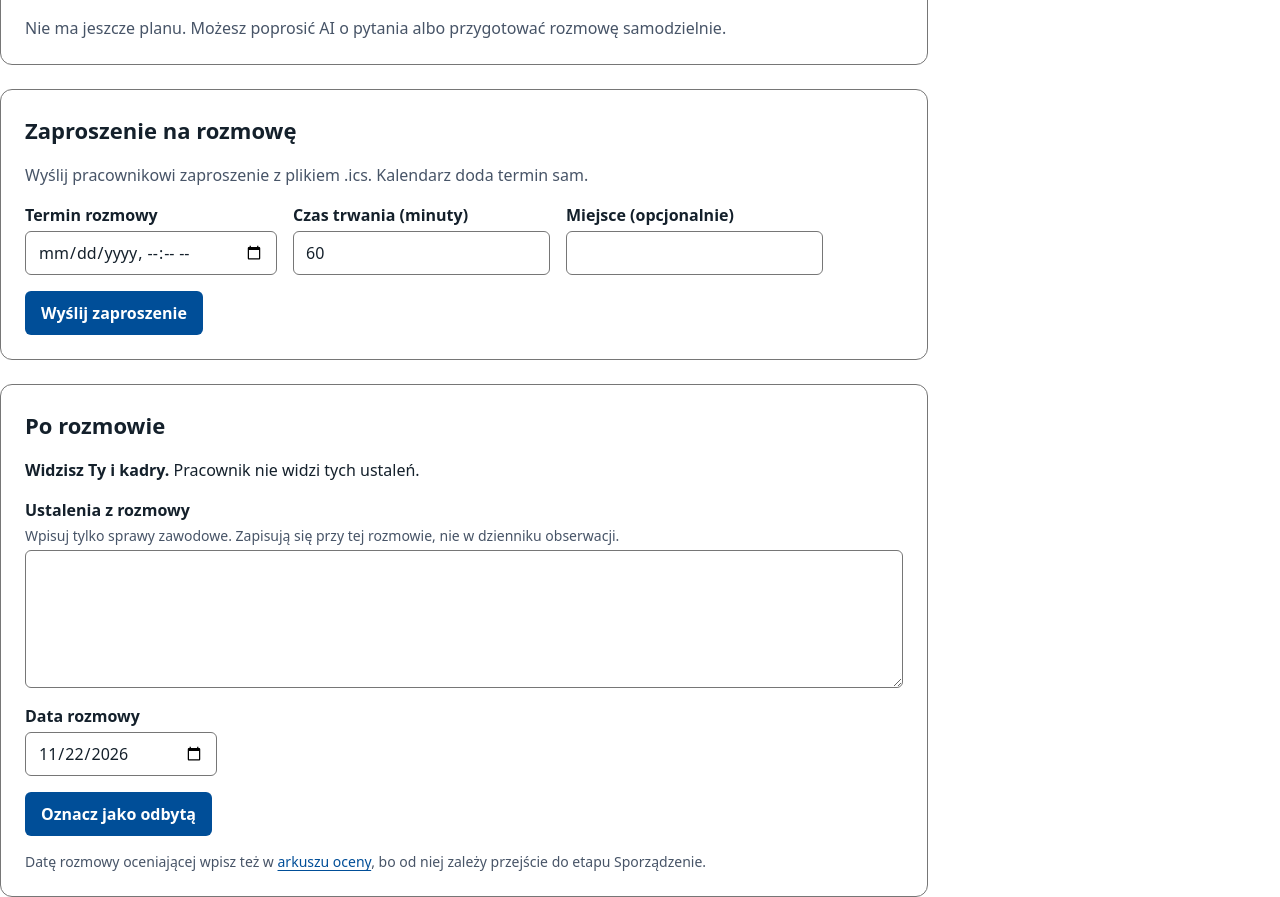
Test: ConversationPage › does not save a conversation dated in the future
(page scrolled)
Type "2099-01-01" into the date field labelled "Data rozmowy" at (121, 754), box [25, 732, 217, 776]
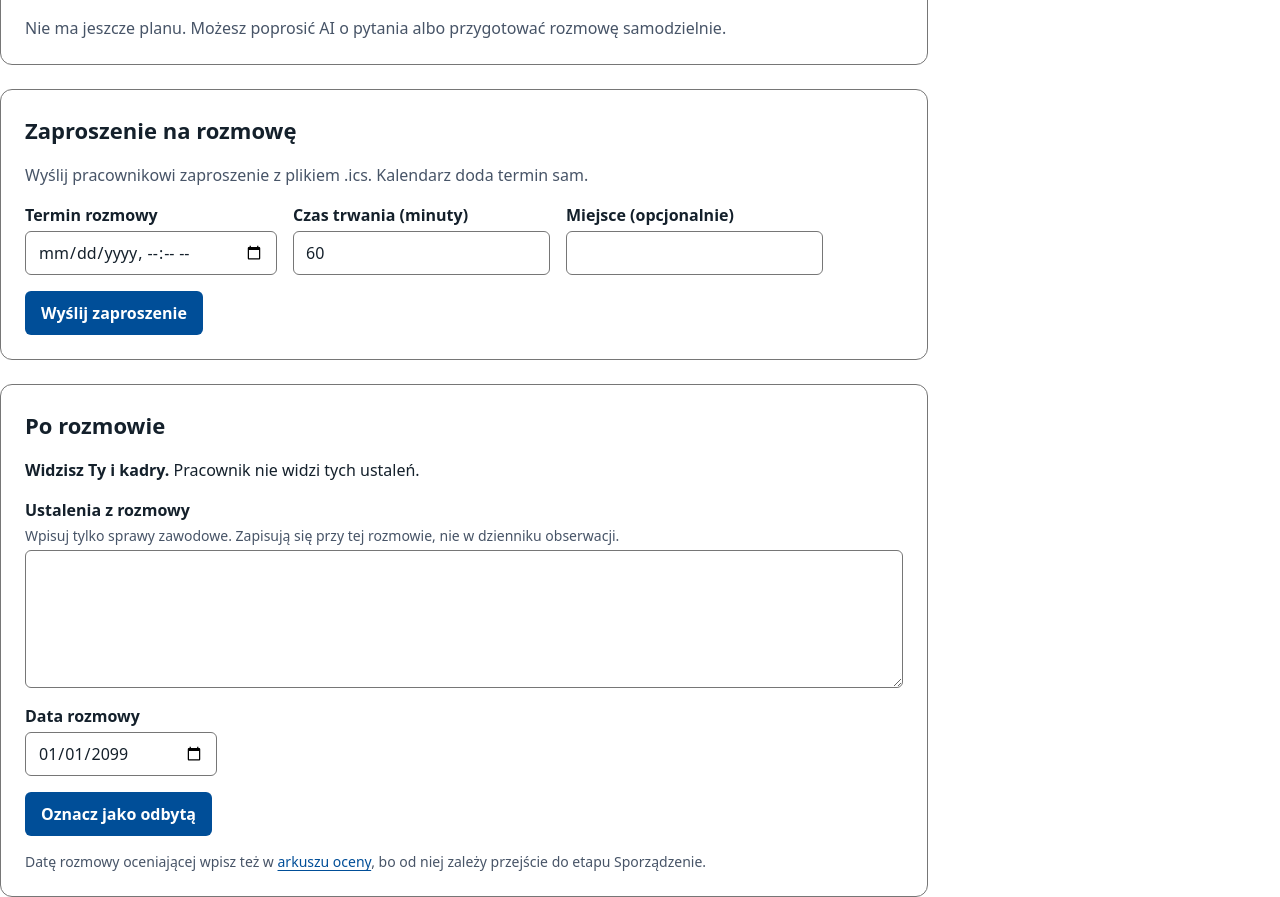
Click the button "Oznacz jako odbytą" at (118, 814), box [25, 792, 212, 836]
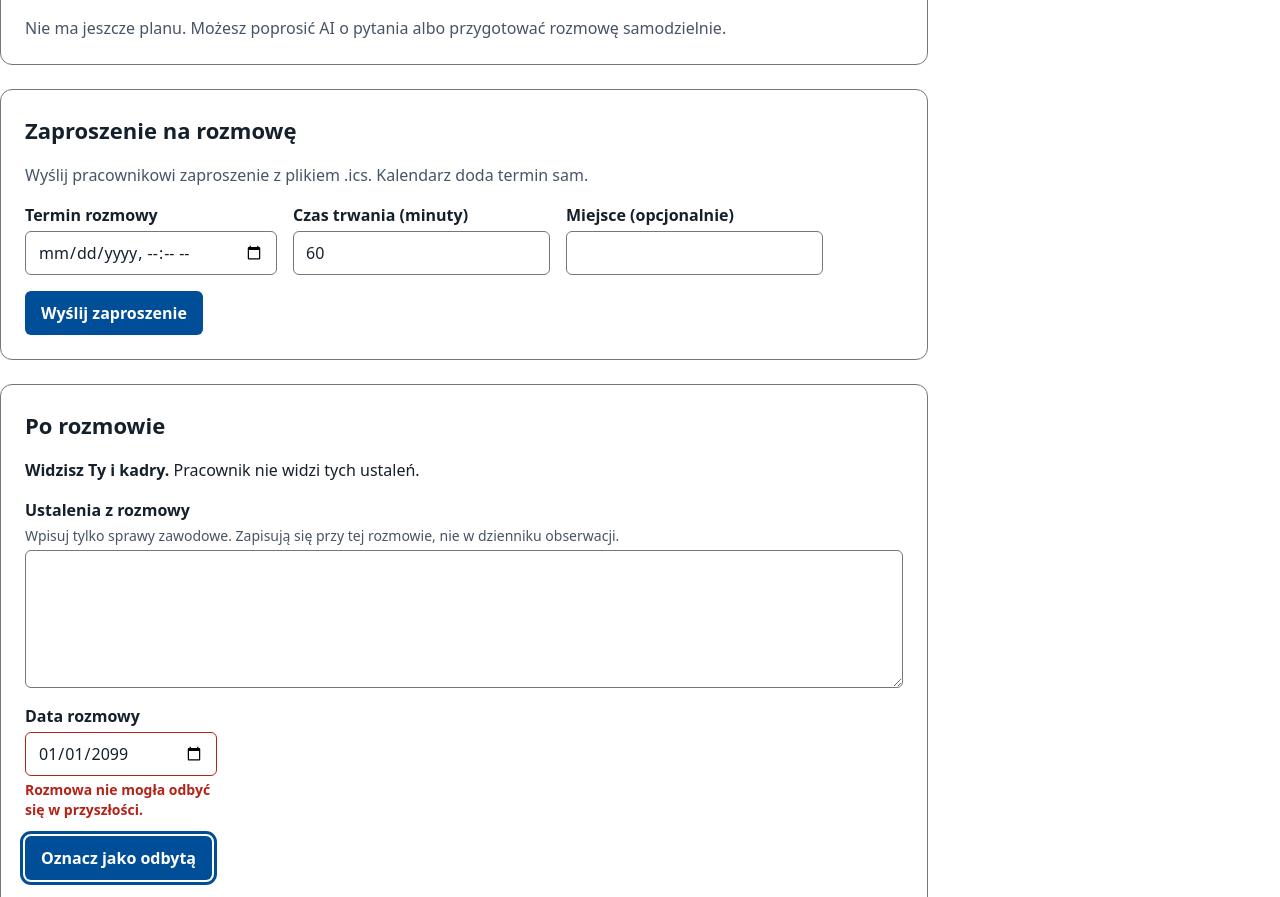
Expected: the text "Rozmowa nie mogła odbyć się w przyszłości." is shown, [25, 780, 217, 820]
